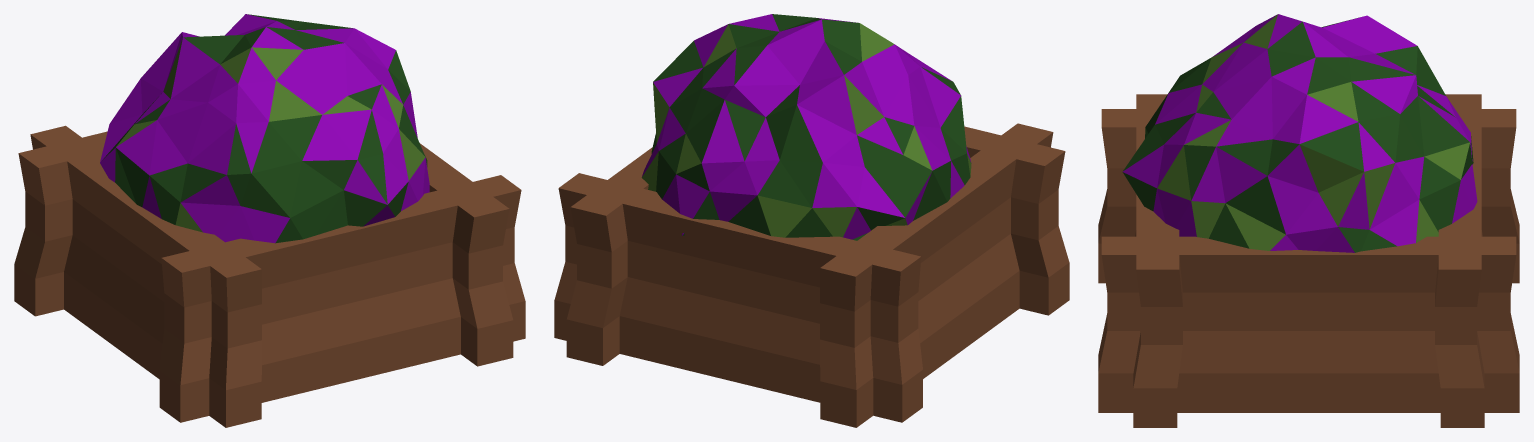
File: FlowersPurple.obj
The picture shows the model from 3 angles, left to right: view 1: azimuth 30°, elevation 25°; view 2: azimuth 150°, elevation 25°; view 3: azimuth 270°, elevation 25°; orthographic projection. The views are drawn at different scales.
Parts seen in each view (by area): view 1: Object.002; view 2: Object.002; view 3: Object.002.
Boxes of the visible parts, bbox=[...] form: Object.002: bbox=[14, 14, 525, 427]; Object.002: bbox=[554, 14, 1069, 427]; Object.002: bbox=[1098, 14, 1519, 427].
Size of the model in its own units: 2.44 by 2 by 2.44.
